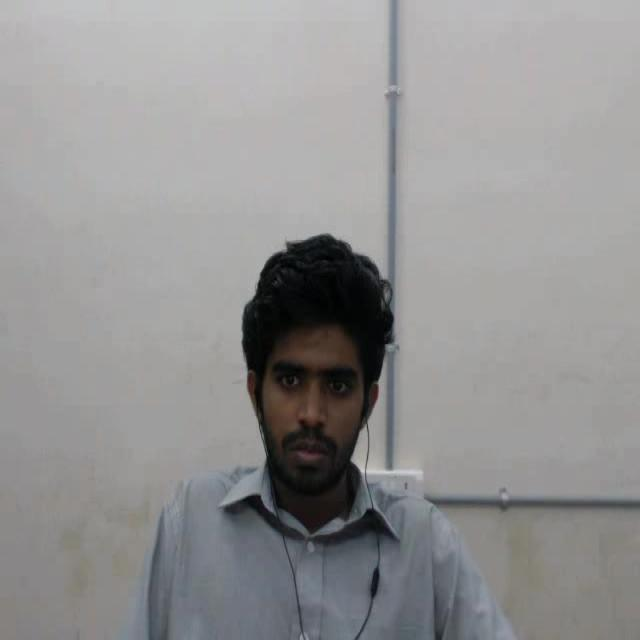Engaged: (211, 220, 442, 536)
